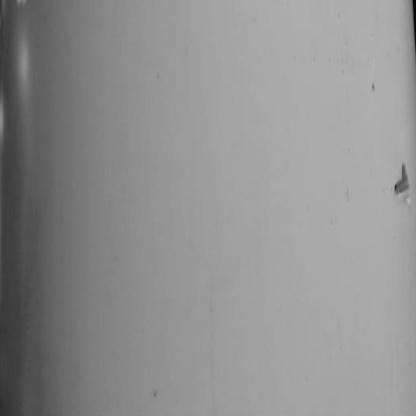kongdong: (393, 151, 415, 213)
